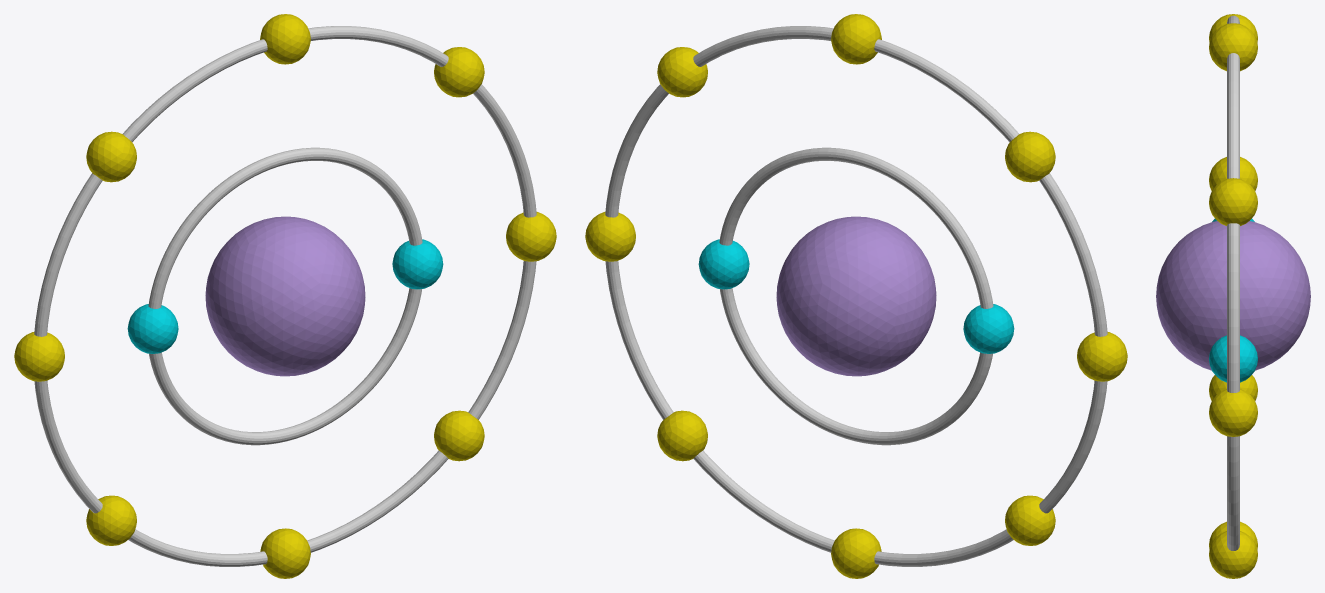
3 views of the same model, side by side, from view 1: azimuth 30°, elevation 25°; view 2: azimuth 150°, elevation 25°; view 3: azimuth 270°, elevation 25° (orthographic). The views are drawn at different scales.
Parts seen in each view (by area): view 1: Nucleo_Ne, Camada_2, Camada_1, e2_4, e2_8, e1_2, e2_5, e2_3, e2_1, e1_1, e2_7, e2_6 (+1 smaller); view 2: Nucleo_Ne, Camada_2, Camada_1, e2_4, e2_8, e1_2, e2_5, e2_3, e2_1, e1_1, e2_7, e2_6 (+1 smaller); view 3: Nucleo_Ne, Camada_2, e2_2, e2_1, e2_3, e2_8, e1_1, e2_5, e2_6, e2_4, e2_7.
Part boxes in pixels (bbox=[...]): Nucleo_Ne: bbox=[205, 216, 365, 376]; Camada_2: bbox=[34, 26, 536, 566]; Camada_1: bbox=[148, 147, 422, 445]; e2_4: bbox=[86, 131, 136, 182]; e2_8: bbox=[434, 410, 484, 461]; e1_2: bbox=[127, 304, 178, 353]; e2_5: bbox=[14, 332, 64, 381]; e2_3: bbox=[260, 14, 310, 64]; e2_1: bbox=[506, 212, 556, 261]; e1_1: bbox=[392, 239, 443, 289]; e2_7: bbox=[260, 528, 310, 578]; e2_6: bbox=[86, 495, 136, 545]; Nucleo_Ne: bbox=[776, 216, 936, 376]; Camada_2: bbox=[605, 26, 1107, 566]; Camada_1: bbox=[719, 147, 993, 445]; e2_4: bbox=[1005, 131, 1055, 182]; e2_8: bbox=[657, 410, 707, 461]; e1_2: bbox=[963, 304, 1014, 353]; e2_5: bbox=[1077, 332, 1127, 381]; e2_3: bbox=[831, 14, 881, 64]; e2_1: bbox=[585, 212, 635, 261]; e1_1: bbox=[698, 239, 749, 289]; e2_7: bbox=[831, 528, 881, 578]; e2_6: bbox=[1005, 495, 1055, 545]; Nucleo_Ne: bbox=[1156, 221, 1310, 370]; Camada_2: bbox=[1227, 15, 1239, 550]; e2_2: bbox=[1209, 178, 1257, 225]; e2_1: bbox=[1209, 389, 1257, 436]; e2_3: bbox=[1209, 23, 1257, 71]; e2_8: bbox=[1209, 531, 1257, 578]; e1_1: bbox=[1209, 335, 1257, 382]; e2_5: bbox=[1209, 157, 1257, 190]; e2_6: bbox=[1209, 375, 1257, 400]; e2_4: bbox=[1209, 14, 1257, 42]; e2_7: bbox=[1209, 521, 1257, 549].
Bounding box in the file's own units: 1.7 × 1.7 × 0.44.
